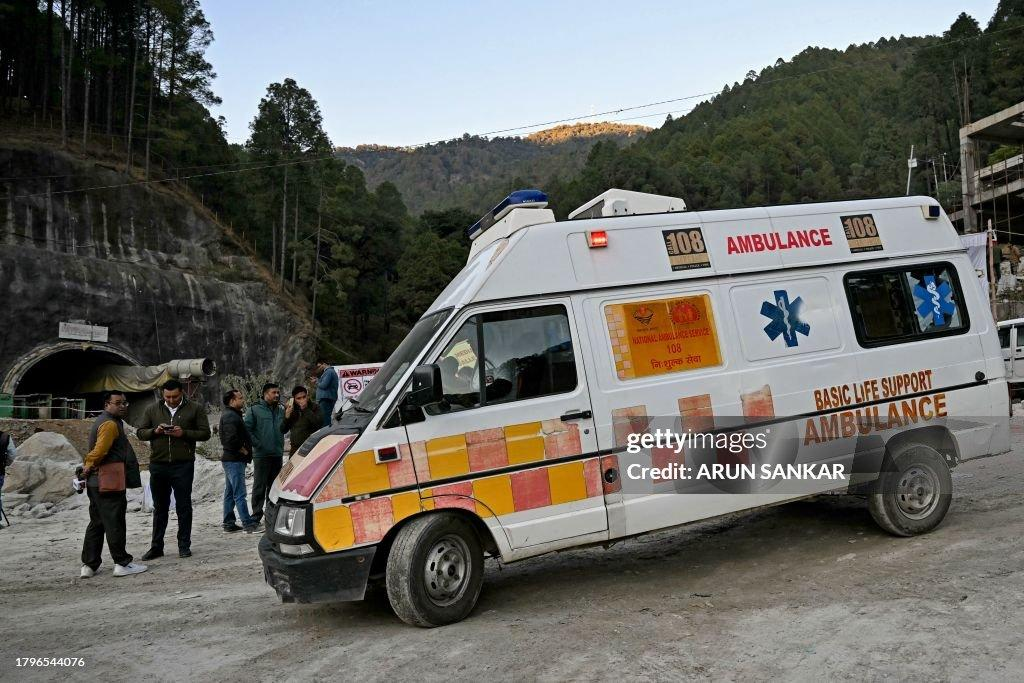ambulance: (550, 222, 951, 382)
